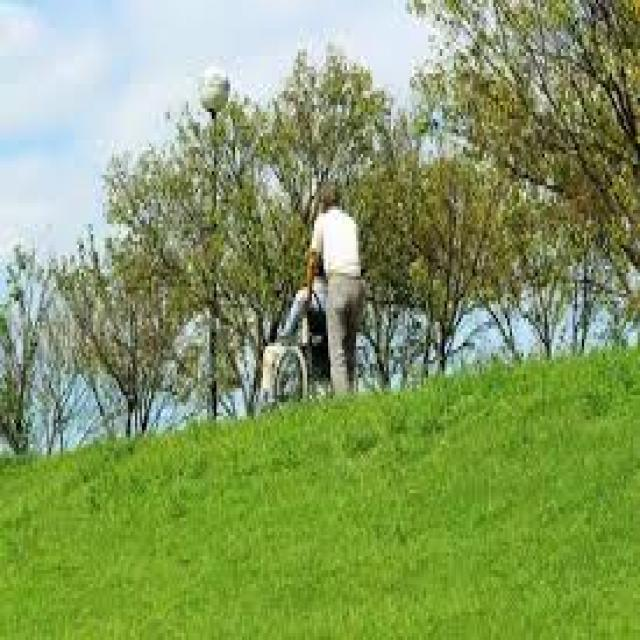wheelchairs: (263, 290, 342, 399)
